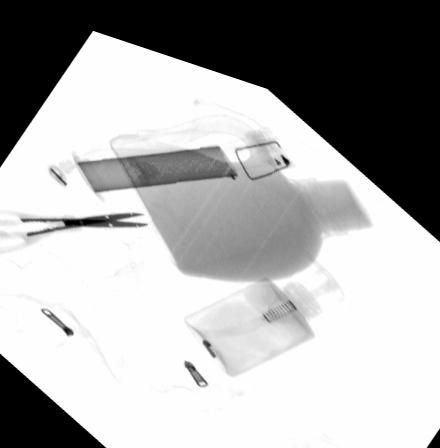Scissors: (0, 203, 148, 251)
